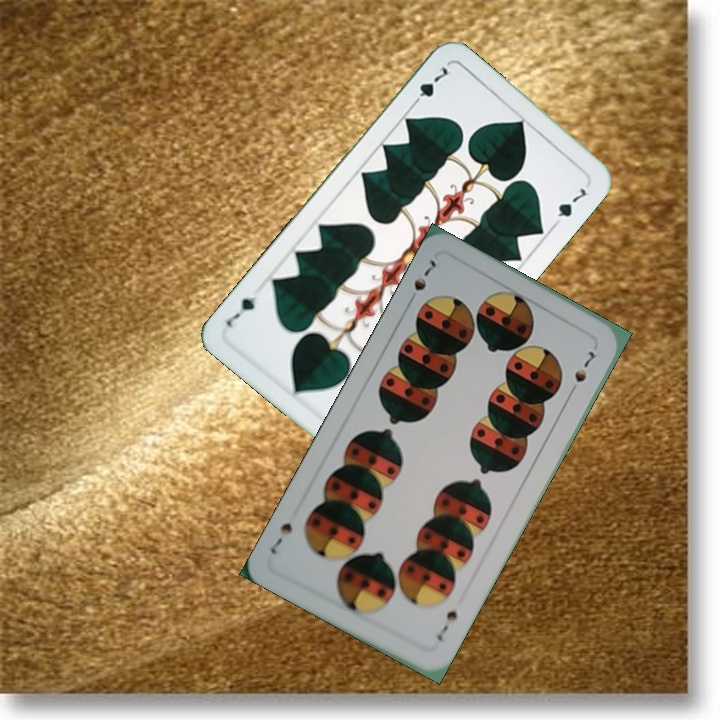G7: (407, 62, 454, 110)
S7: (404, 254, 439, 307), (433, 605, 460, 644)
